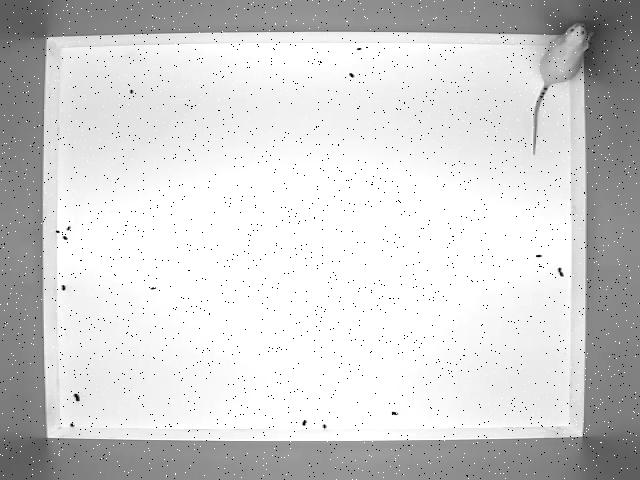Tikus: (529, 22, 594, 160)
